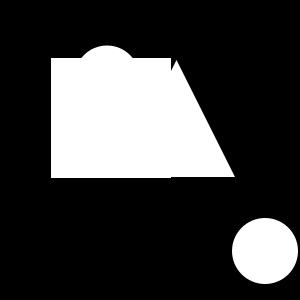circle: (51, 58, 171, 178)
rectangle: (232, 218, 298, 284), (74, 46, 140, 110)
triangle: (118, 60, 235, 177), (153, 123, 186, 156)
